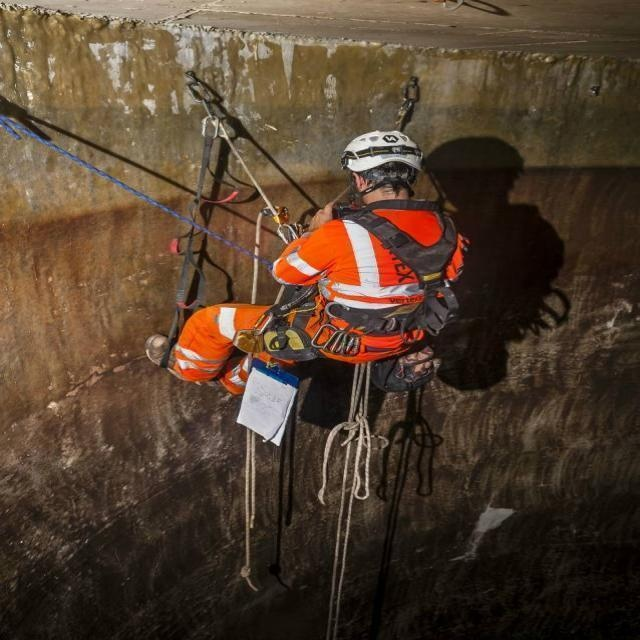Arnes_seguridad: (307, 200, 465, 348)
